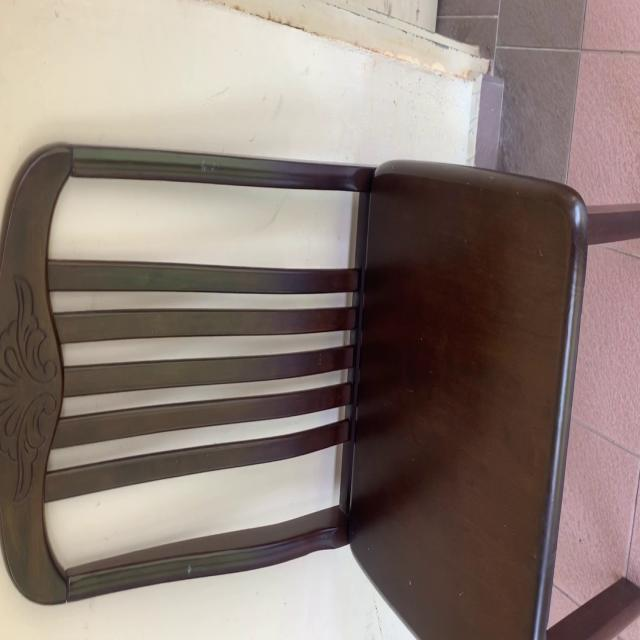chair: (4, 135, 640, 640)
